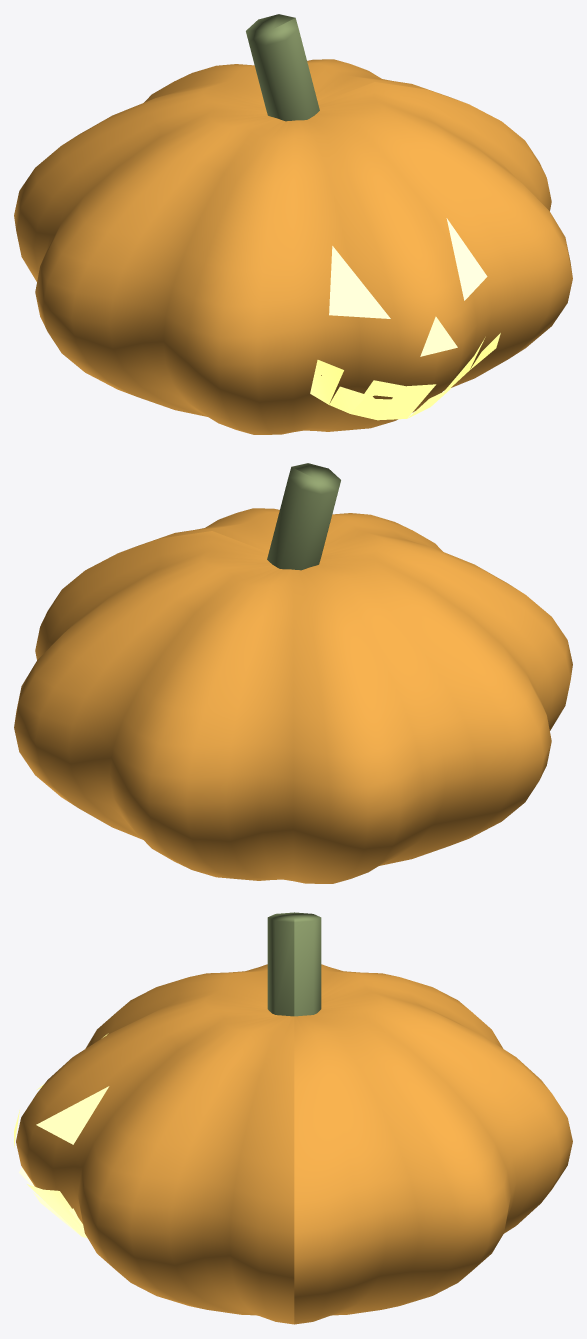
File: pumpkin.glb
3 views of the same model, one above another, from view 1: azimuth 30°, elevation 25°; view 2: azimuth 150°, elevation 25°; view 3: azimuth 270°, elevation 25° (orthographic). The views are drawn at different scales.
Bounding box in the file's own units: 0.9315 × 0.7162 × 0.9346.
